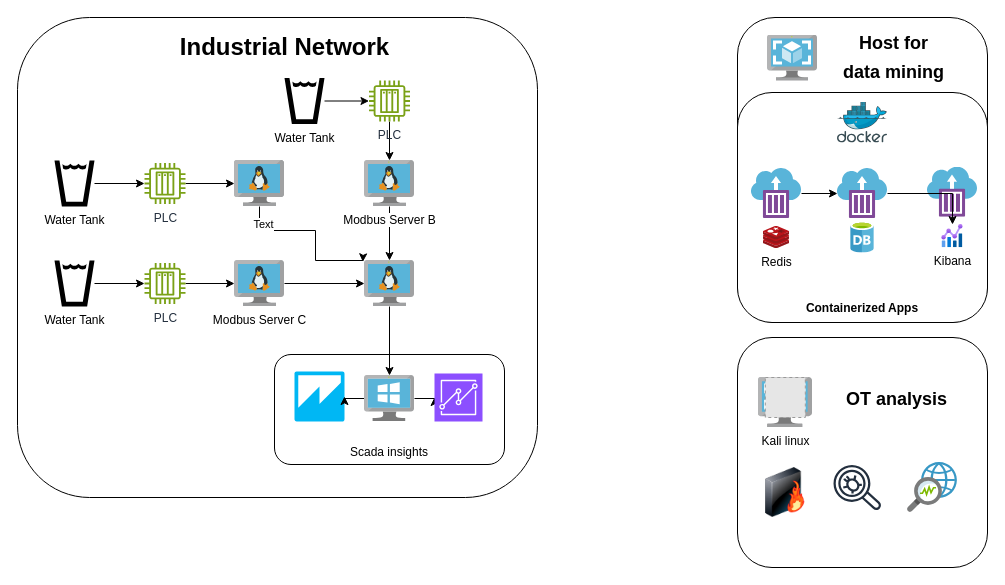
This 1005x585 diagram has some shape labels left out. Grey dashed boxes stand in for pictures. Here are the shapes that lost their labels. From the top down, the box of each, then its label:
(234, 160, 284, 206): Modbus Server A
(850, 222, 874, 252): Elasticsearch
(364, 260, 414, 306): Modbus Client A
(762, 467, 807, 517): Snort
(826, 456, 888, 518): YARA
(907, 462, 957, 512): tshark
